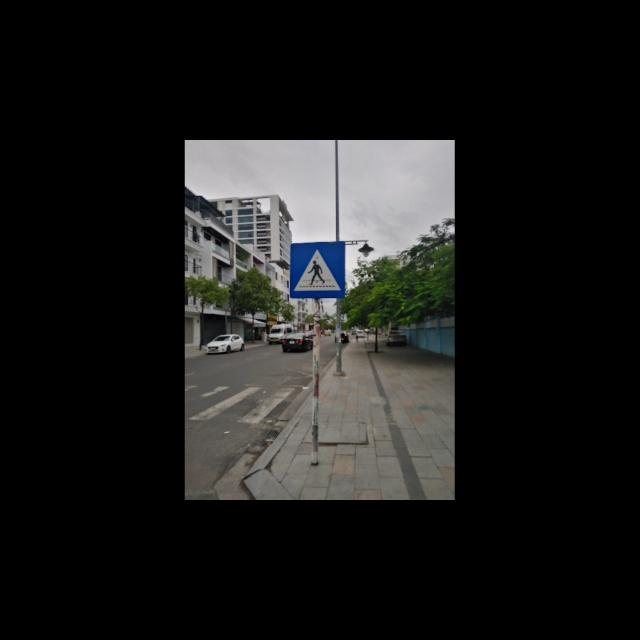Đường dành cho người đi bộ: (290, 243, 346, 298)
